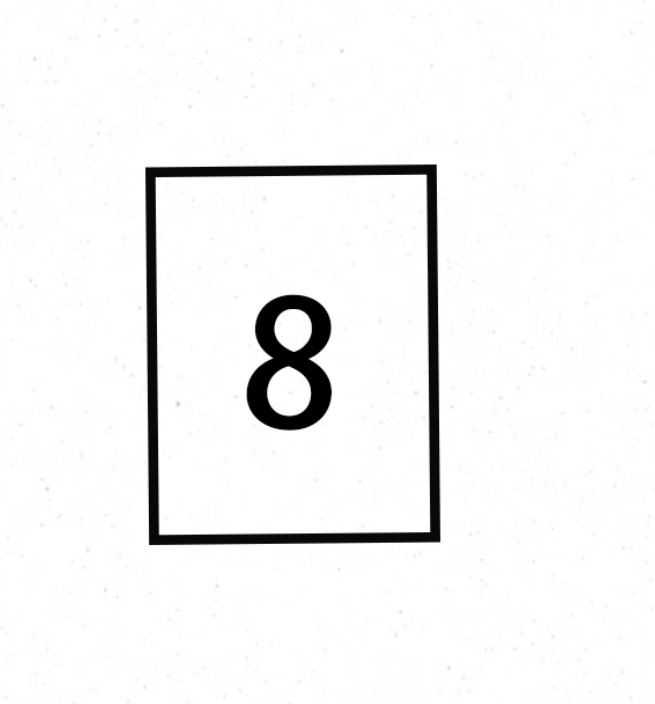eight: (219, 253, 363, 465)
